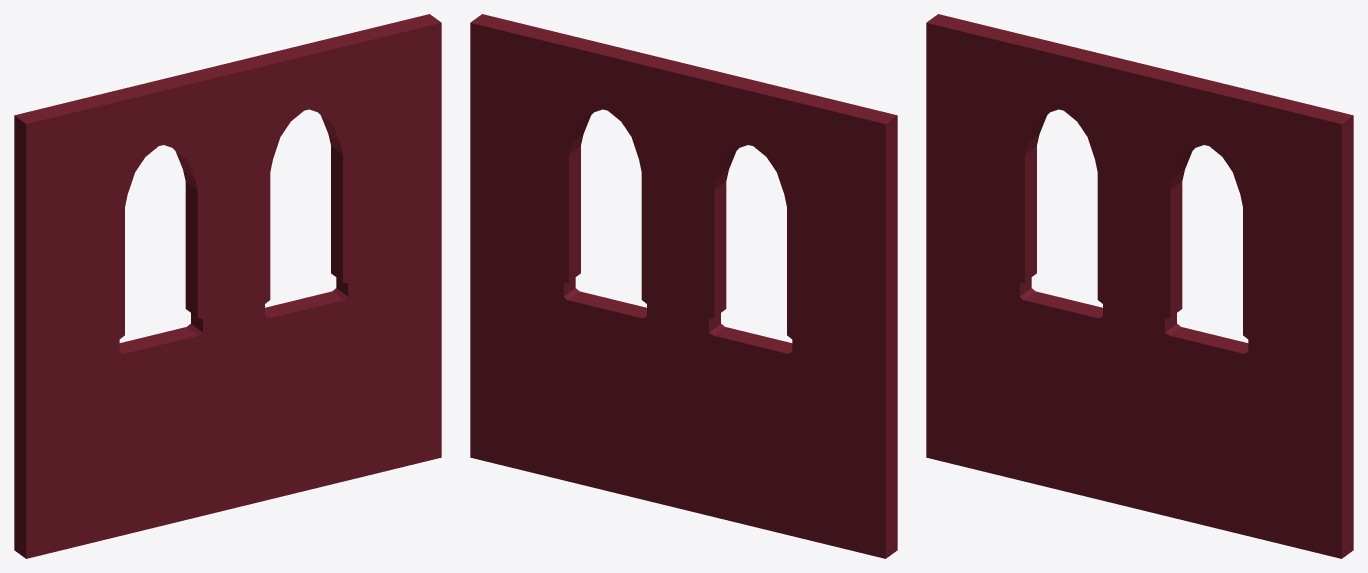
Rendered from wall_without2Window_001_grp.fbx.
3 renders of one model, left to right at view 1: azimuth 30°, elevation 25°; view 2: azimuth 150°, elevation 25°; view 3: azimuth 330°, elevation 25°, orthographic.
Visible parts, largest first — view 1: wall_without2Window_001_grp; view 2: wall_without2Window_001_grp; view 3: wall_without2Window_001_grp.
Boxes of the visible parts, bbox=[...] form: wall_without2Window_001_grp: bbox=[14, 14, 441, 558]; wall_without2Window_001_grp: bbox=[470, 14, 897, 558]; wall_without2Window_001_grp: bbox=[926, 14, 1353, 558].
Size of the model in its own units: 400 by 400 by 20.
